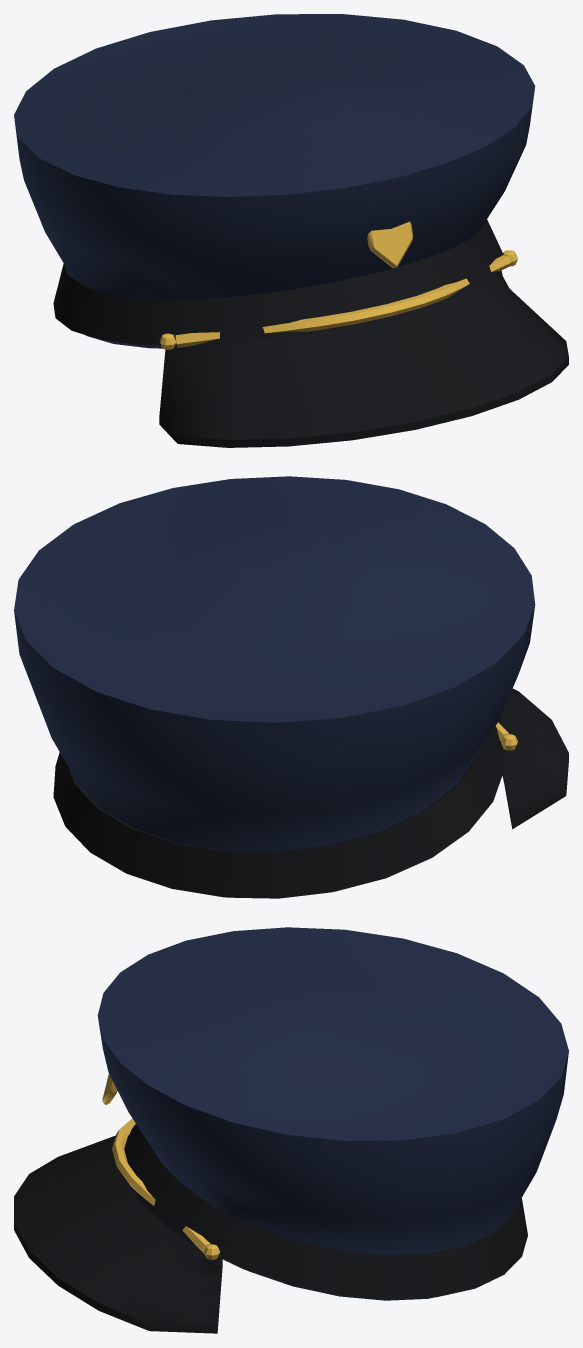
The model's file is Char_Hat_CopCap.fbx.
3 renders of one model, top to bottom at view 1: azimuth 30°, elevation 25°; view 2: azimuth 150°, elevation 25°; view 3: azimuth 270°, elevation 25°, orthographic. The views are drawn at different scales.
Parts seen in each view (by area): view 1: Crown, Band, Badge; view 2: Crown, Band; view 3: Crown, Band, Badge.
Boxes of the visible parts, x1=… form: Crown: x1=14, y1=14, x2=535, y2=348; Band: x1=53, y1=219, x2=568, y2=447; Badge: x1=159, y1=221, x2=517, y2=349; Crown: x1=14, y1=476, x2=535, y2=898; Band: x1=53, y1=688, x2=568, y2=898; Crown: x1=97, y1=927, x2=568, y2=1300; Band: x1=14, y1=1124, x2=527, y2=1333; Badge: x1=102, y1=1074, x2=220, y2=1259.
Bounding box in the file's own units: 180 × 97.55 × 200.
